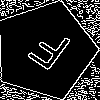F: (20, 25, 74, 80)
